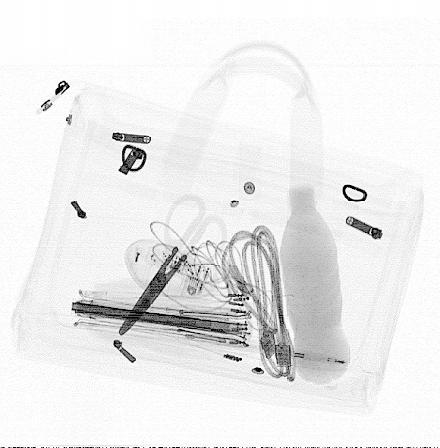Scissors: (118, 191, 229, 339)
